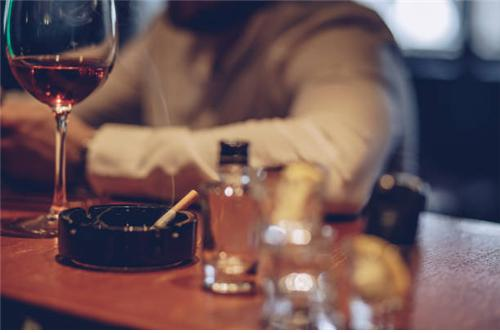alcohol: (5, 0, 114, 238), (322, 235, 430, 331), (201, 139, 259, 295), (253, 223, 338, 328)
cigarette: (142, 188, 198, 230)
